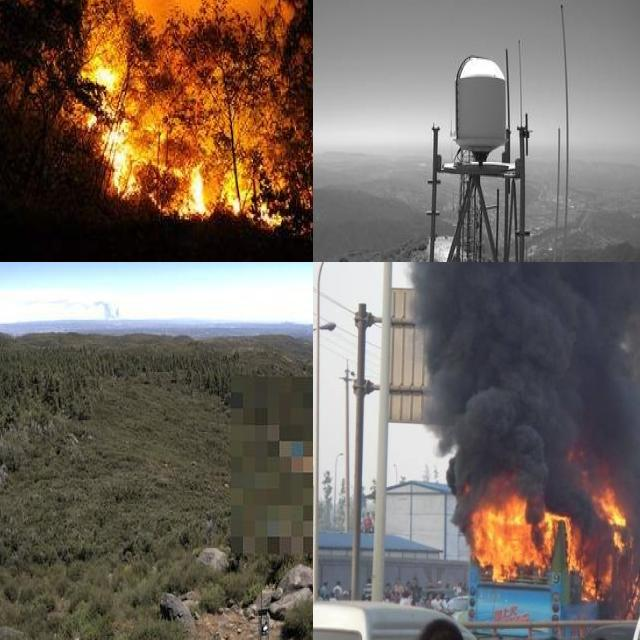fire: (69, 23, 313, 245), (461, 444, 640, 613)
smoke: (406, 262, 640, 503), (87, 296, 120, 320)
